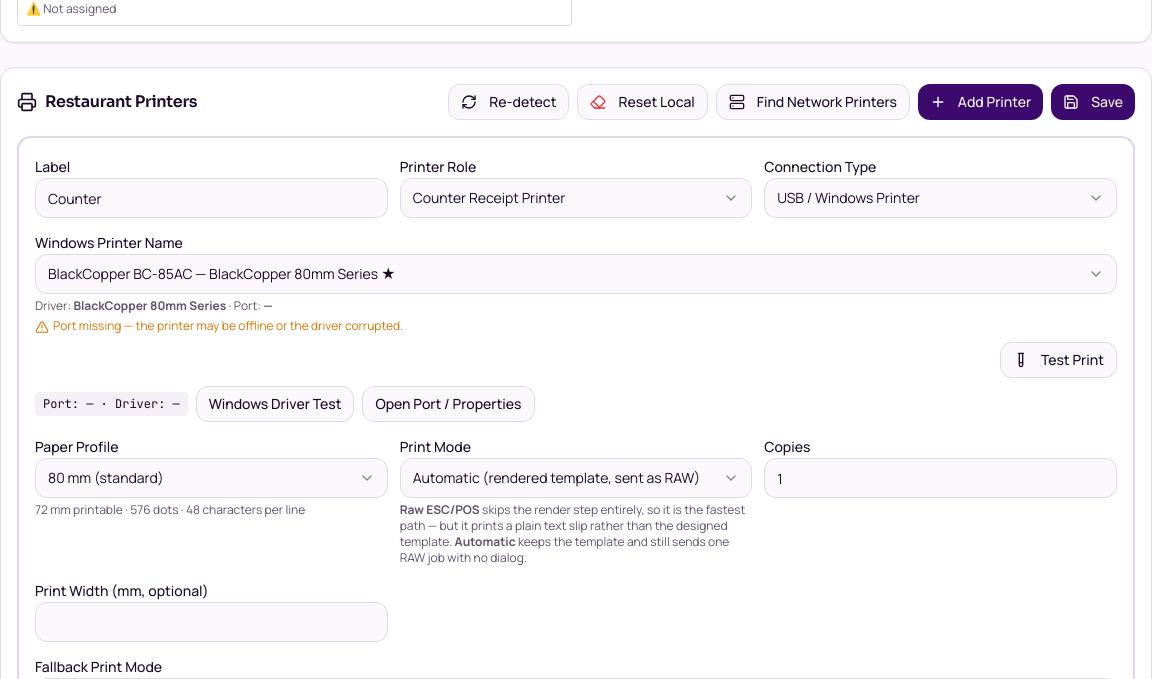
Printer Center — "Came out blank" on a Black Copper › blank in every mode ends with the paper/hardware checks, not another switch
The width and height of the screenshot is (1152, 679).
(page scrolled)
Click the button "Test Print".
click(1058, 360)  # box [1000,342,1117,378]
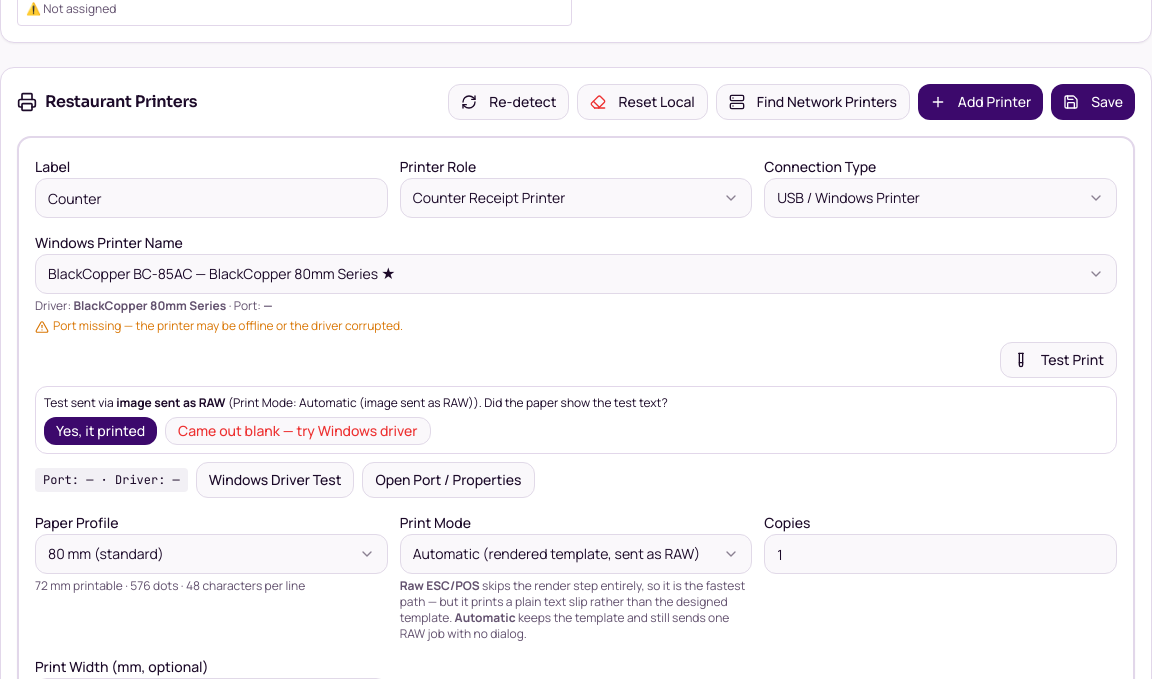
Click the button "Came out blank — try Windows driver".
click(298, 431)  # box [165,417,431,445]
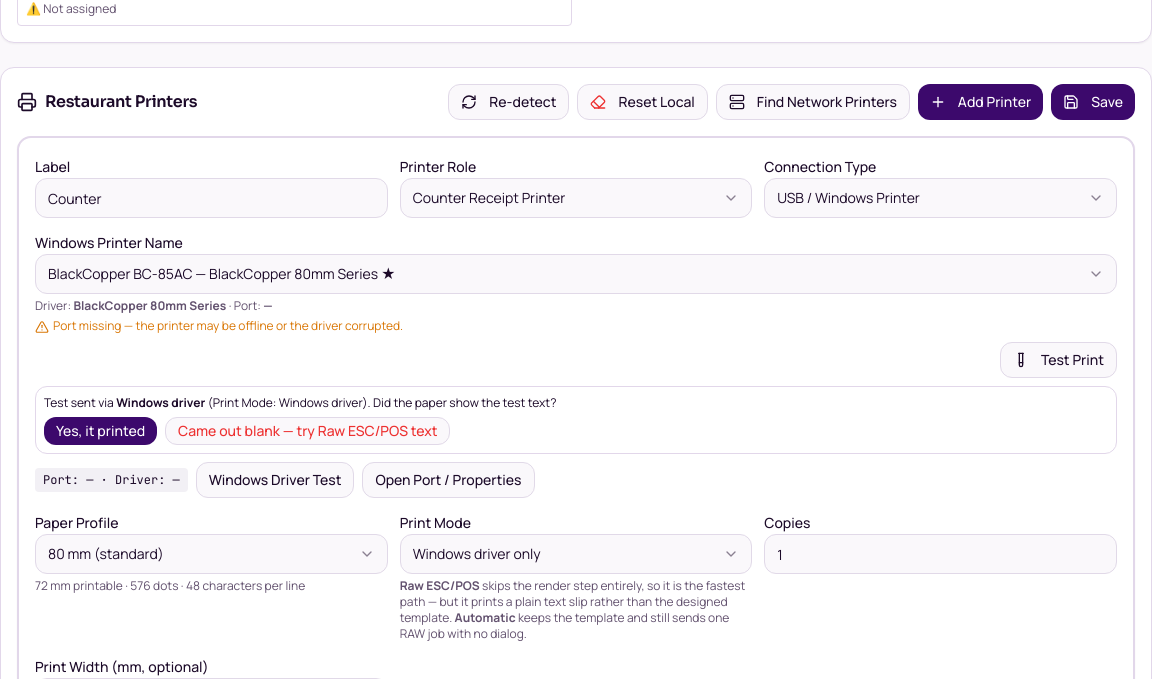
Click the button "Came out blank — try Raw ESC/POS text".
click(308, 431)  # box [165,417,450,445]
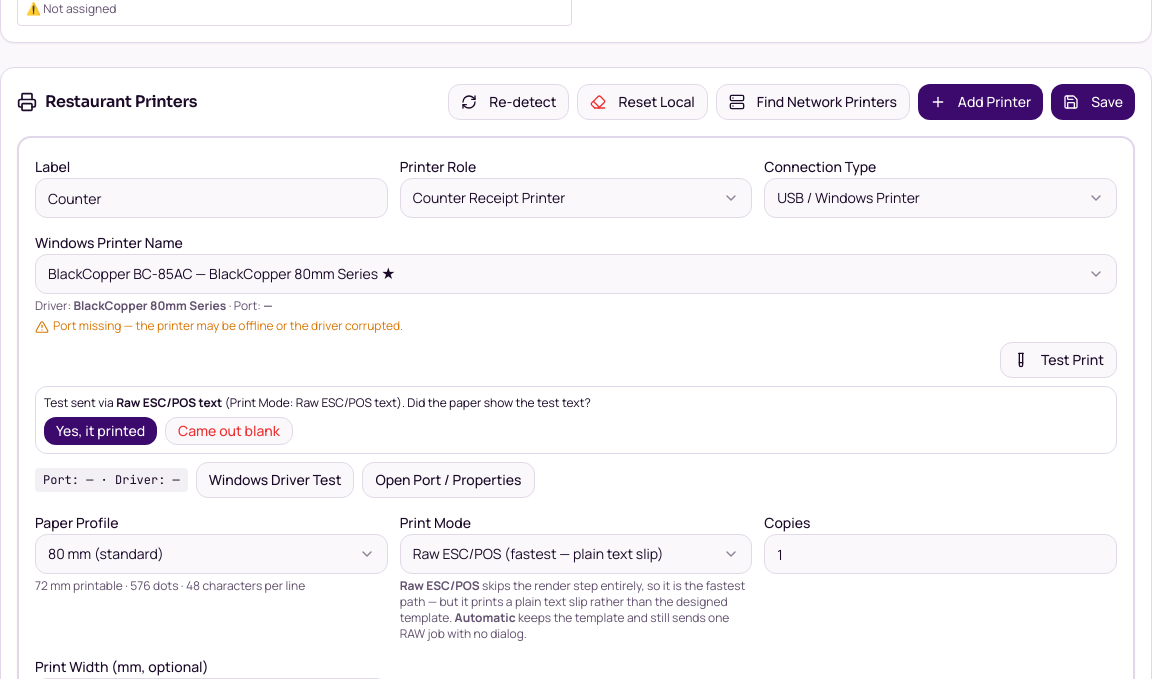
Click the button "Came out blank".
click(229, 431)  # box [165,417,293,445]
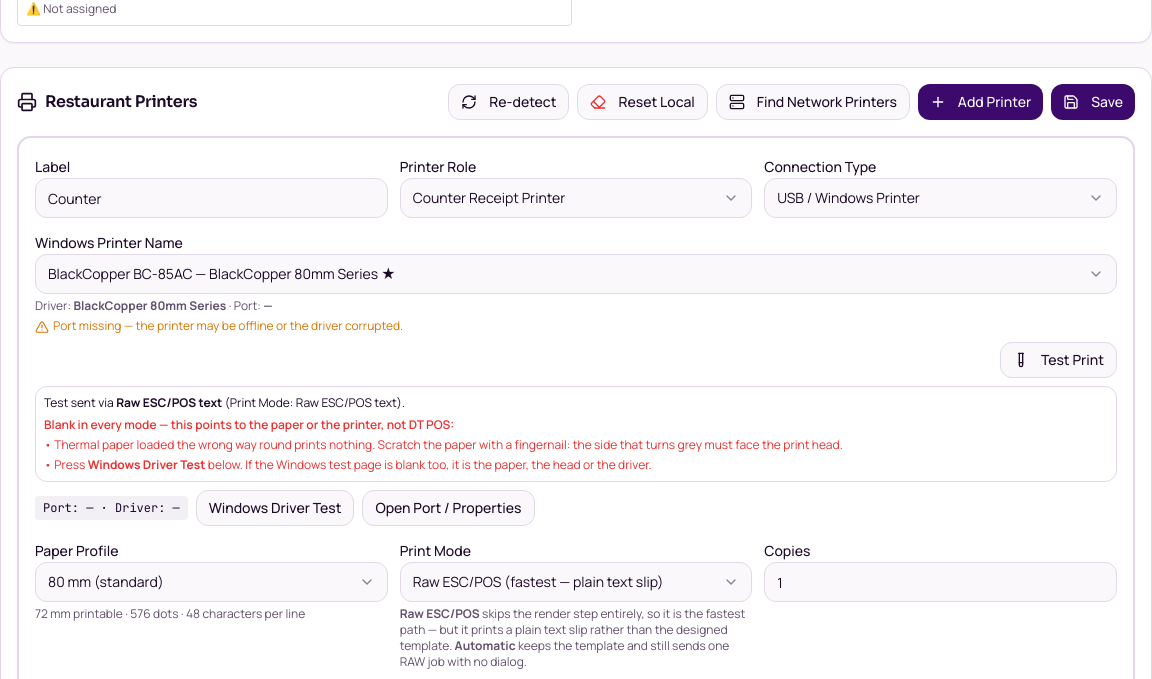
Now the text "Blank in every mode" is shown, box [44,416,454,433]
Now the text "Scratch the paper with a fingernail" is shown, box [44,436,843,453]
